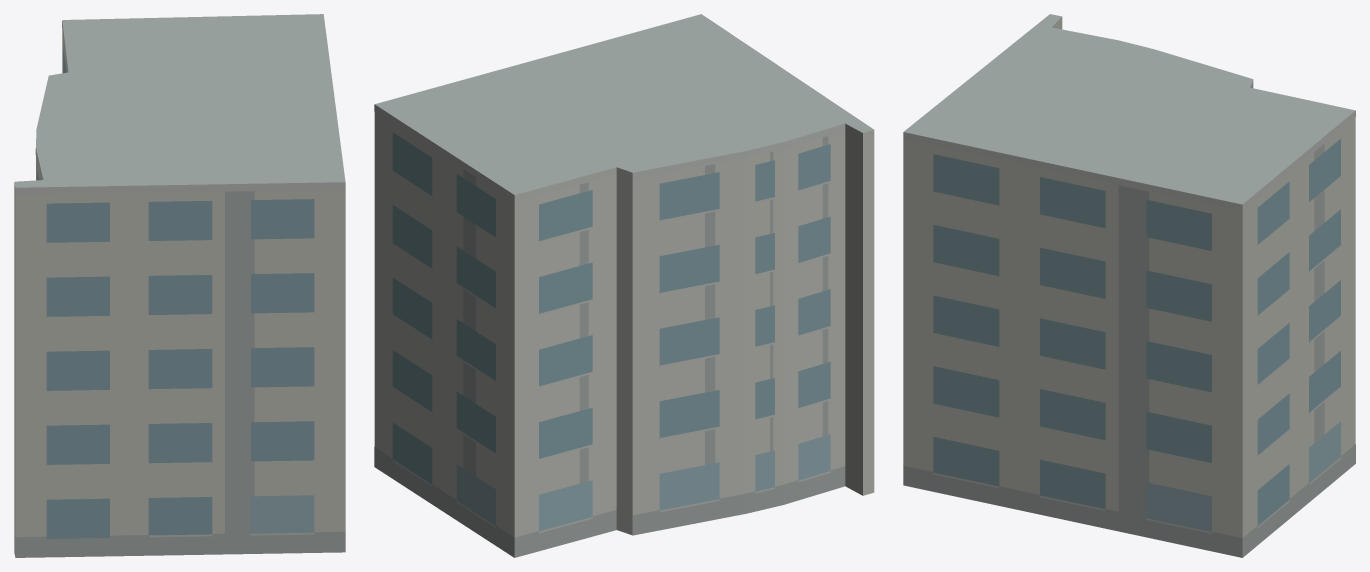
The model's file is survey-upis-32724585.glb.
3 views of the same model, side by side, from view 1: azimuth 30°, elevation 25°; view 2: azimuth 150°, elevation 25°; view 3: azimuth 270°, elevation 25° (orthographic). The views are drawn at different scales.
Parts seen in each view (by area): view 1: survey-upis-32724585.tmp; view 2: survey-upis-32724585.tmp; view 3: survey-upis-32724585.tmp.
Part boxes in pixels (box(x1,y1,x2,y2)): survey-upis-32724585.tmp: box(14, 14, 345, 557); survey-upis-32724585.tmp: box(374, 14, 874, 557); survey-upis-32724585.tmp: box(903, 14, 1355, 557).
Size of the model in its own units: 14 by 12.1 by 14.05.
